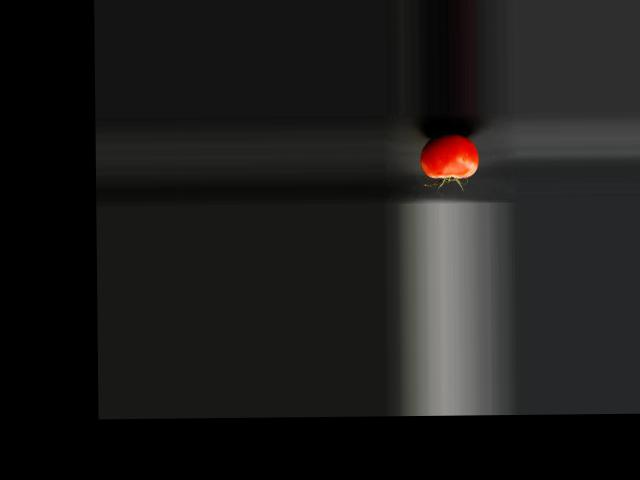tomato: (420, 134, 479, 178)
